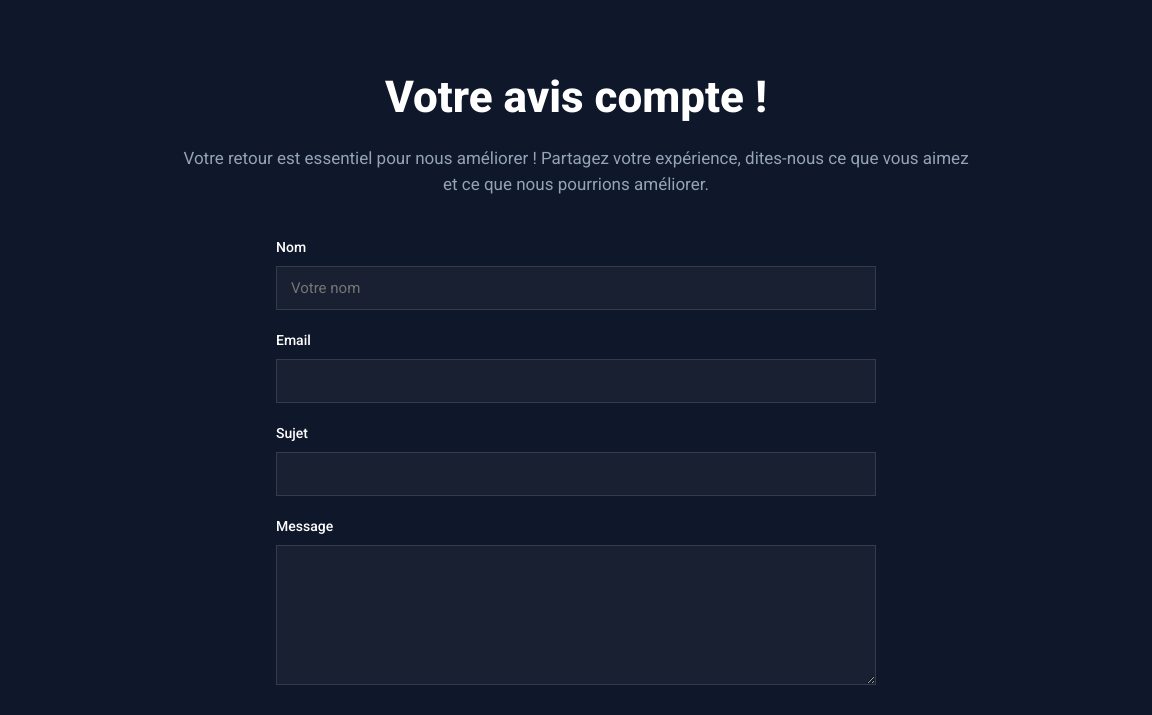
Test: Contact › envoie le message avec consentement
Type "Jean Dupont" into the field labelled "Nom". click: (576, 288)
box: left=276, top=266, right=876, bottom=310
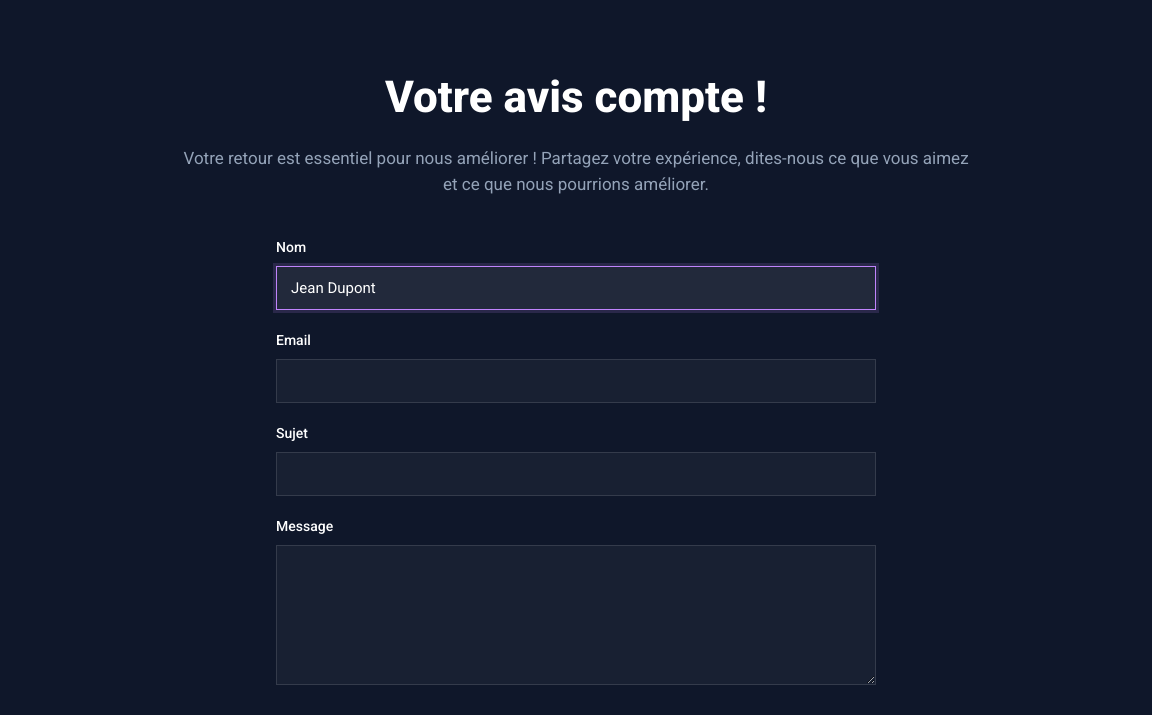
Type "jean@weeb.local" into the field labelled "Email". click: (576, 381)
box: left=276, top=359, right=876, bottom=403
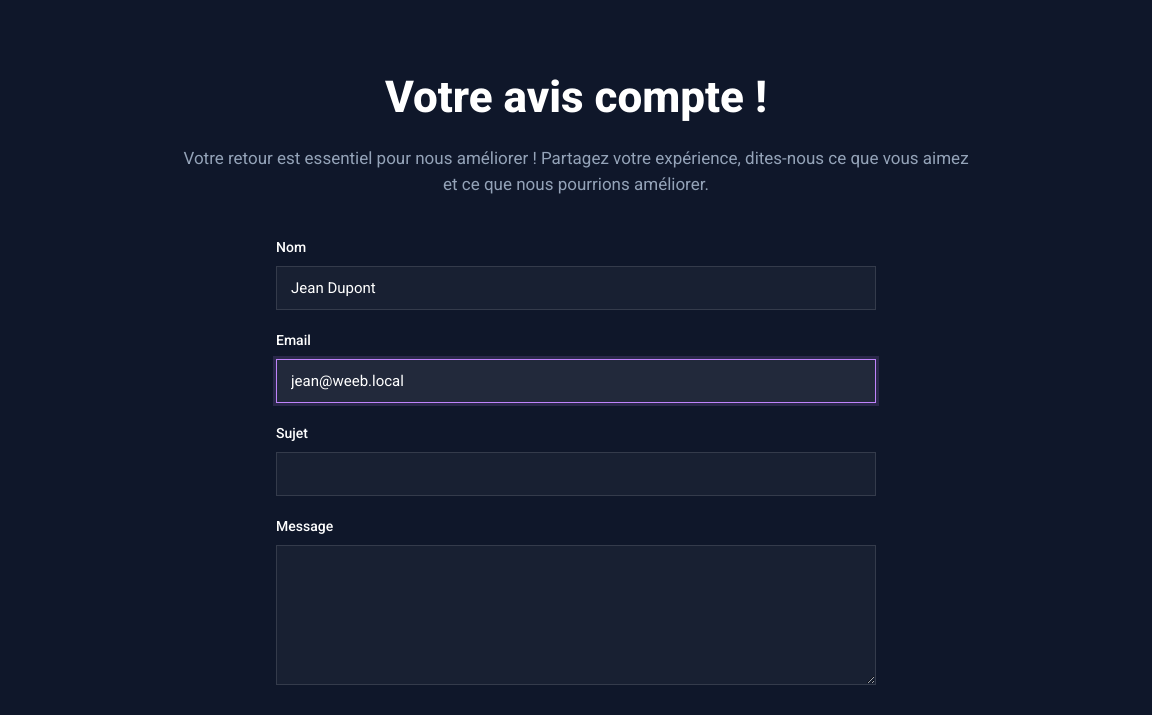
Type "Question" into the field labelled "Sujet". click: (576, 474)
box: left=276, top=452, right=876, bottom=496
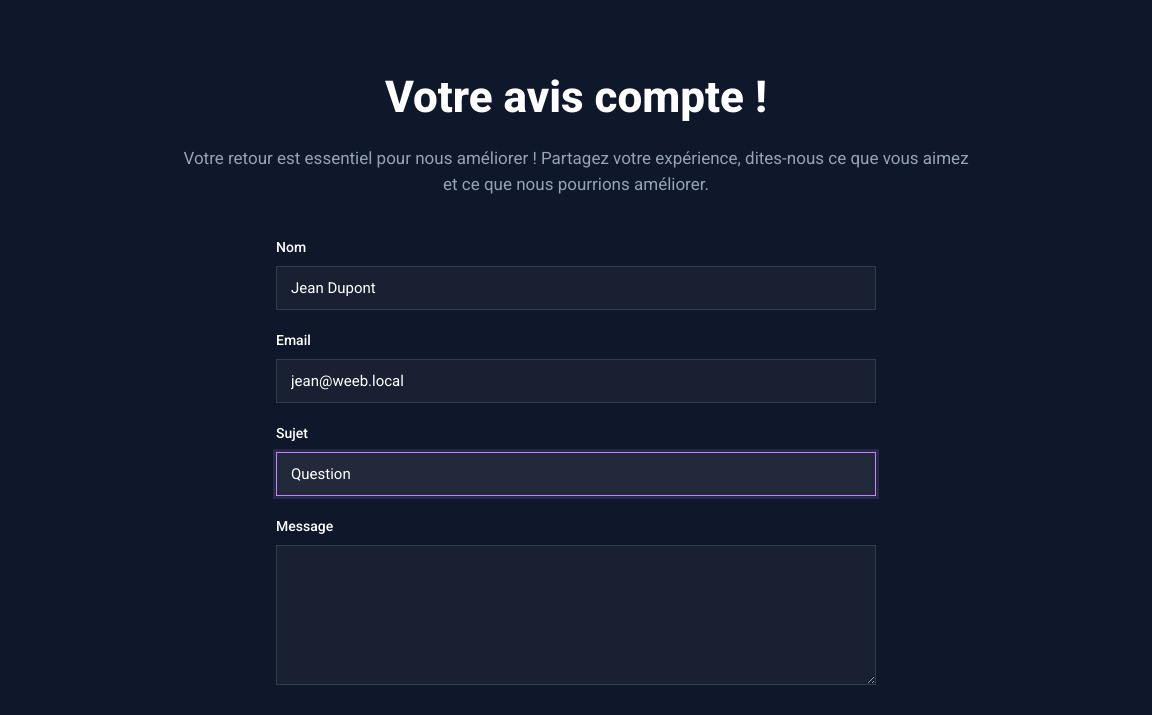
Type "Bonjour" into the text box labelled "Message". click: (576, 615)
box: left=276, top=545, right=876, bottom=685
(page scrolled)
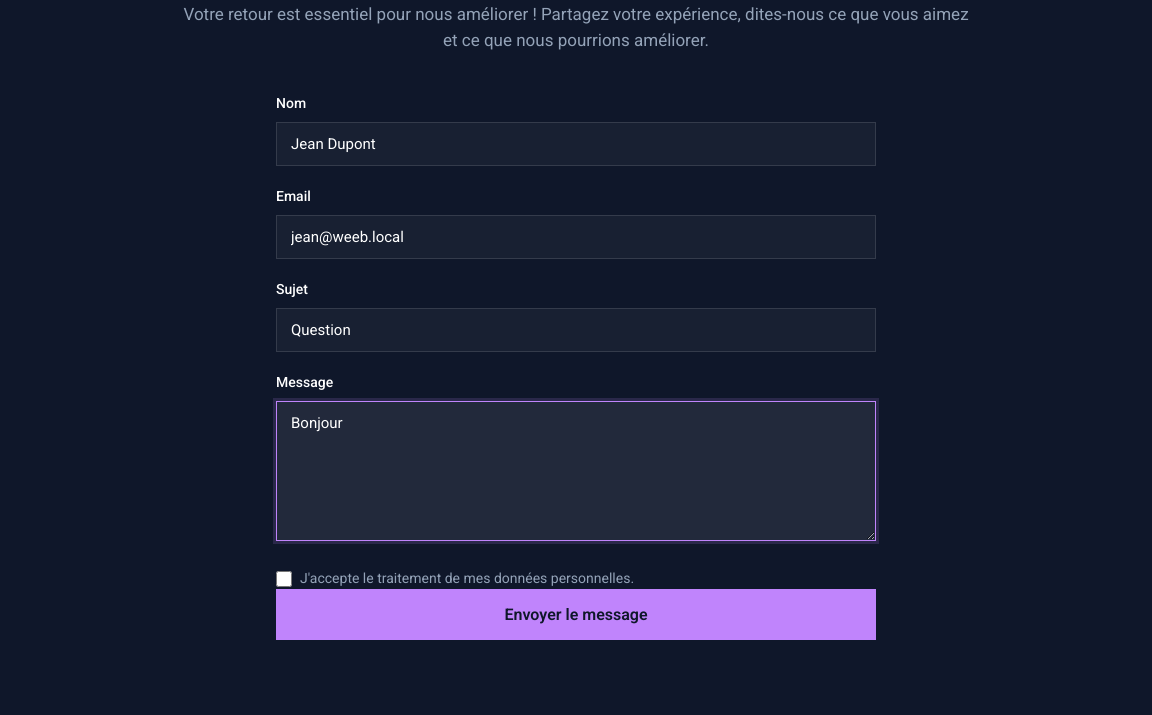
Click the checkbox. click: (284, 578)
box: left=276, top=570, right=292, bottom=586
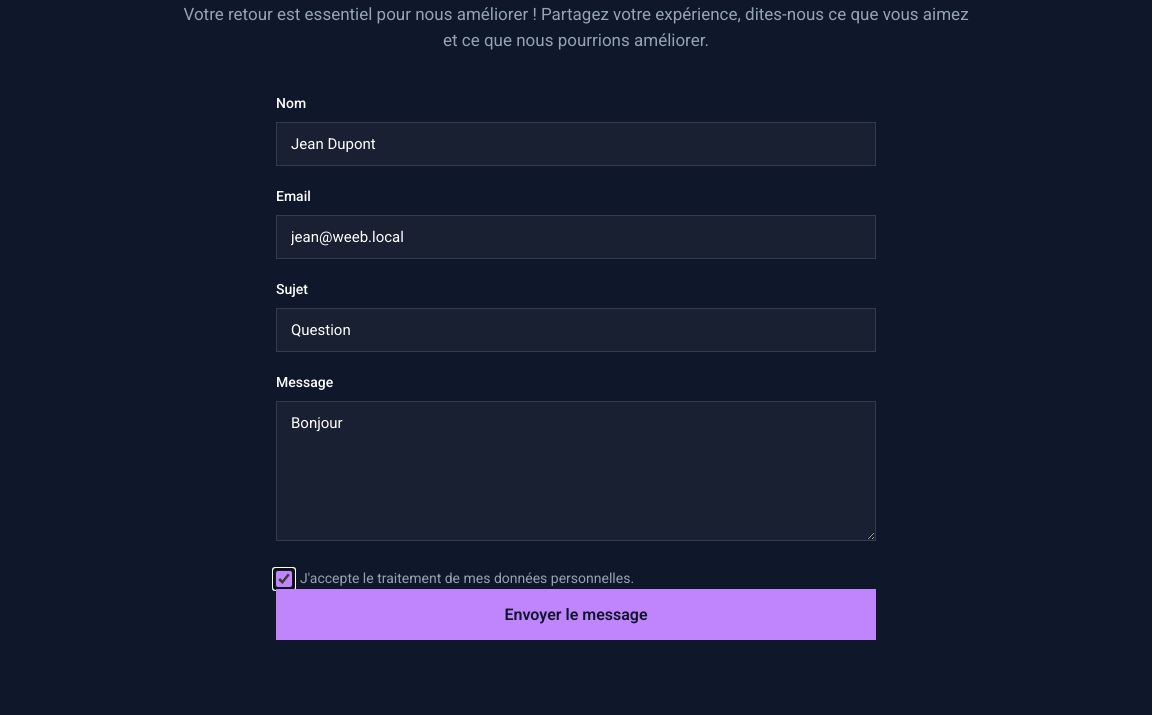
Click the button "Envoyer le message". click: (576, 614)
box: left=276, top=589, right=876, bottom=640
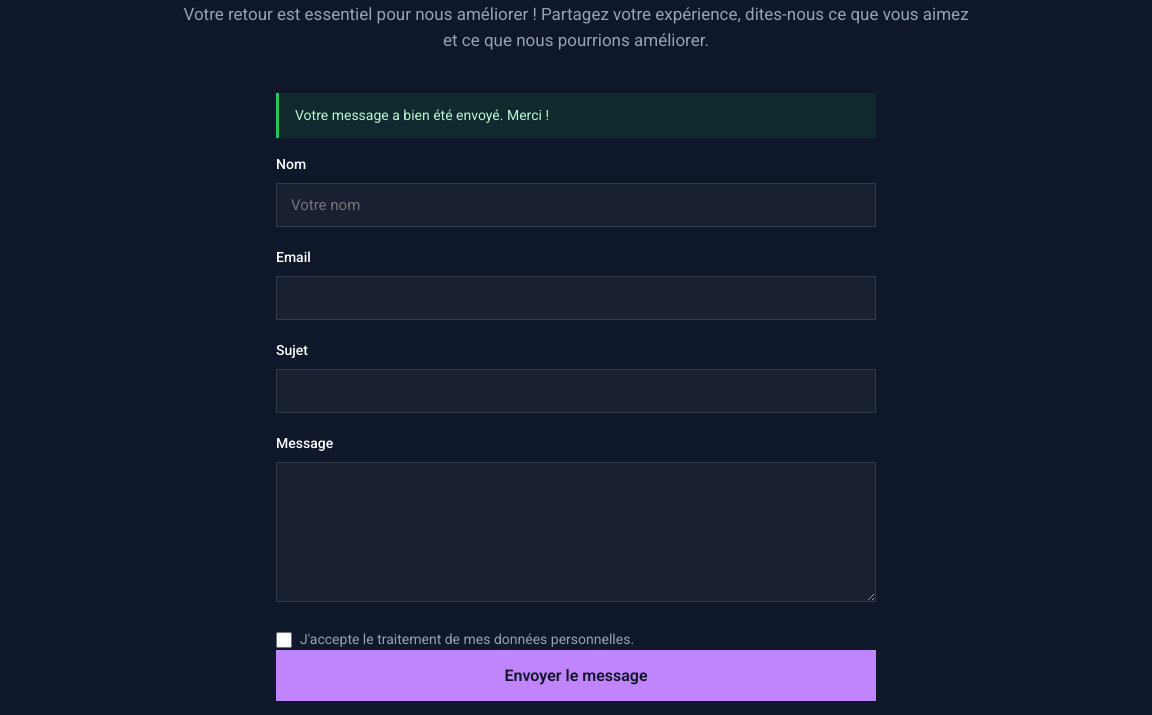
Now the text "Votre message a bien été envoyé. Merci !" is shown, box left=276, top=93, right=876, bottom=138
